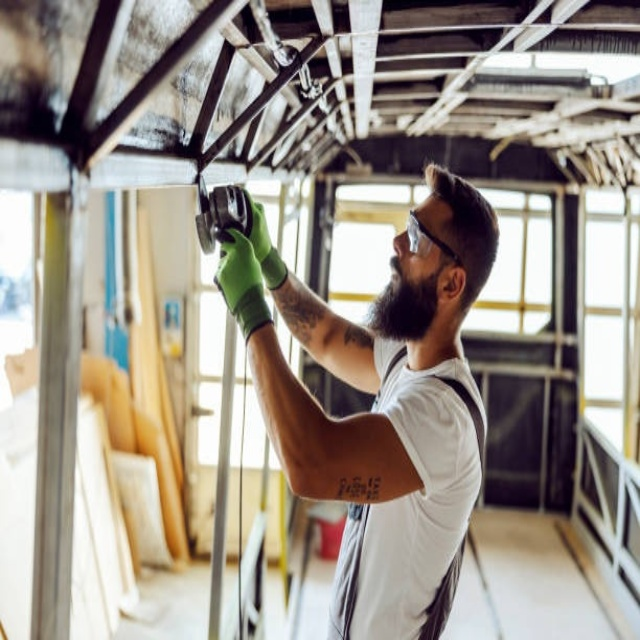Gafas: (407, 209, 463, 268)
Guantes: (214, 226, 272, 344), (247, 191, 291, 292)
Sin_mascara: (380, 234, 408, 298)
